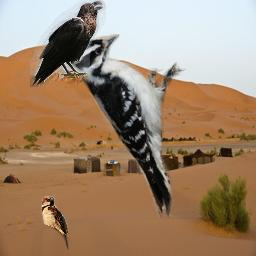Crow: (30, 0, 106, 87)
Swallow: (41, 196, 69, 250)
Woodpecker: (69, 34, 186, 218)
